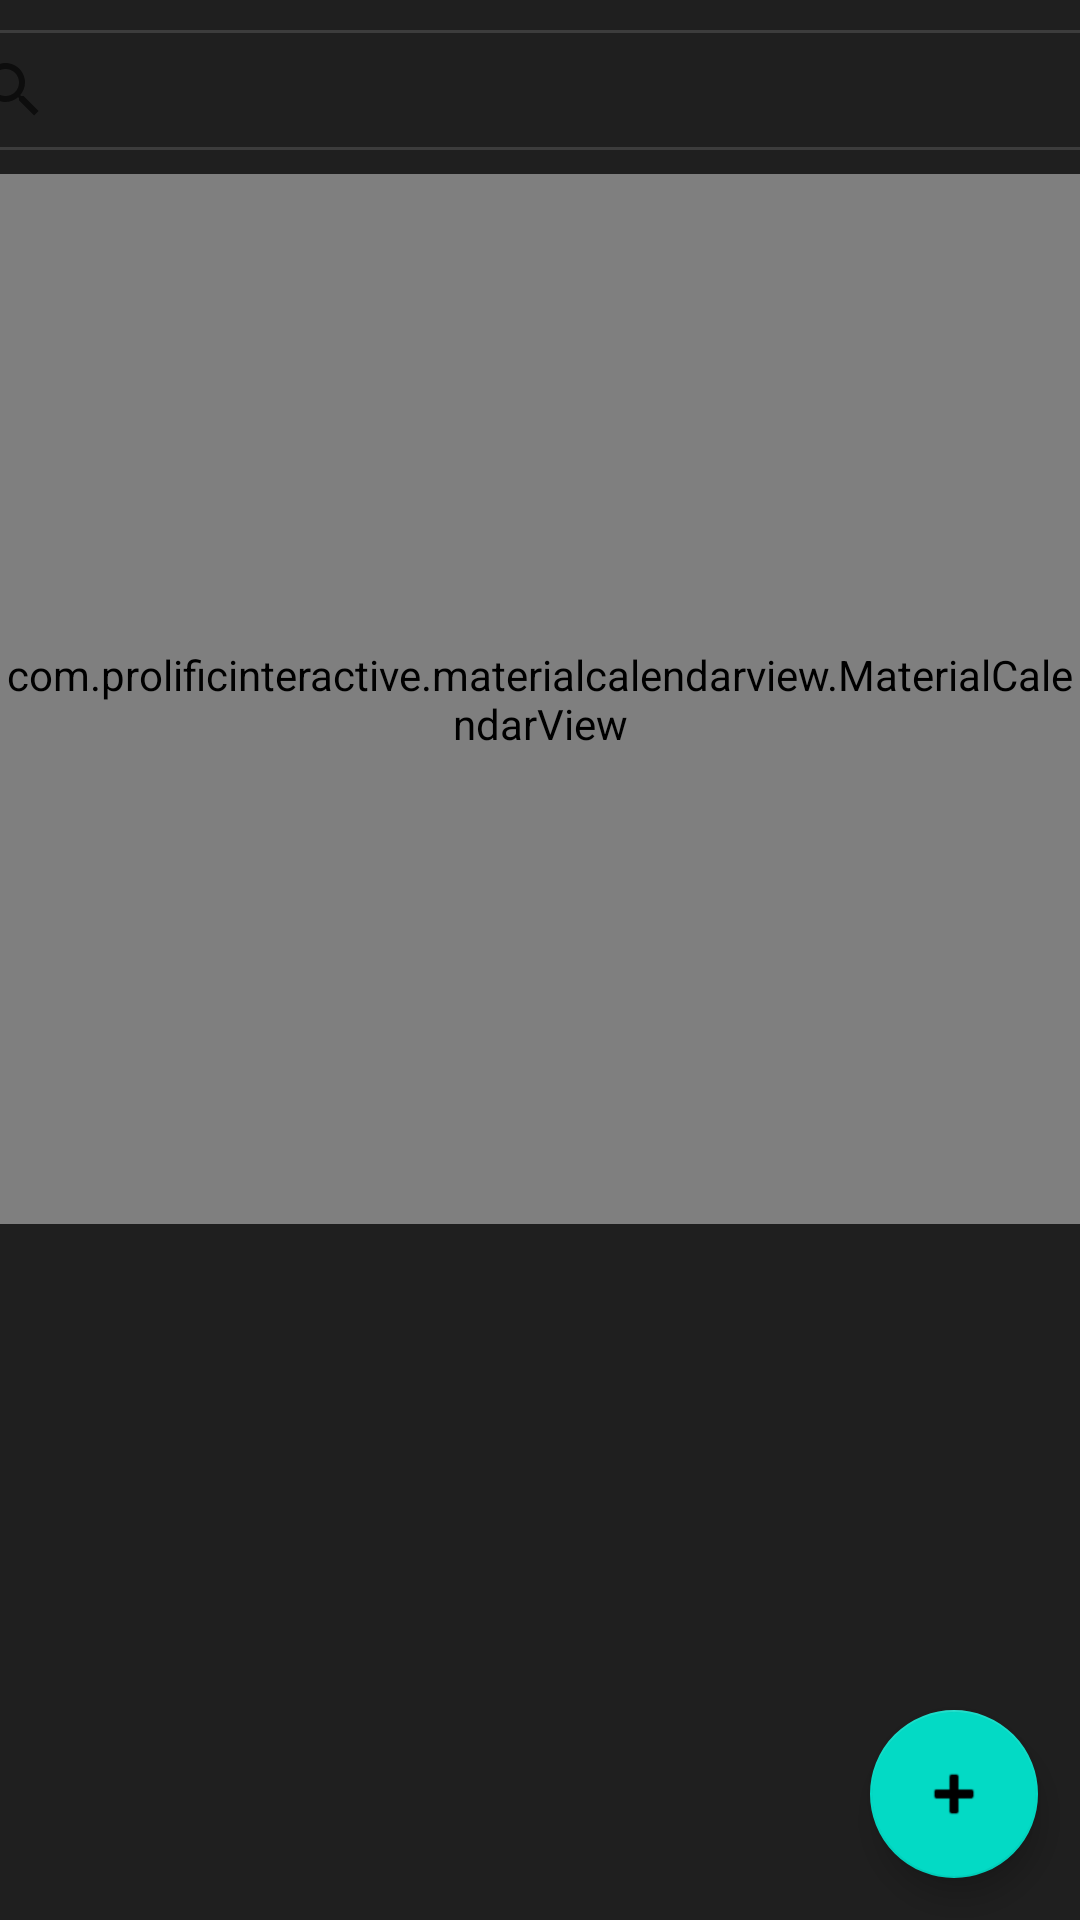

Screen size 1080px x 1920px. Icon name, then its box in pixels as (x1, y1, x2, y2):
add: (870, 1710, 1038, 1878)
